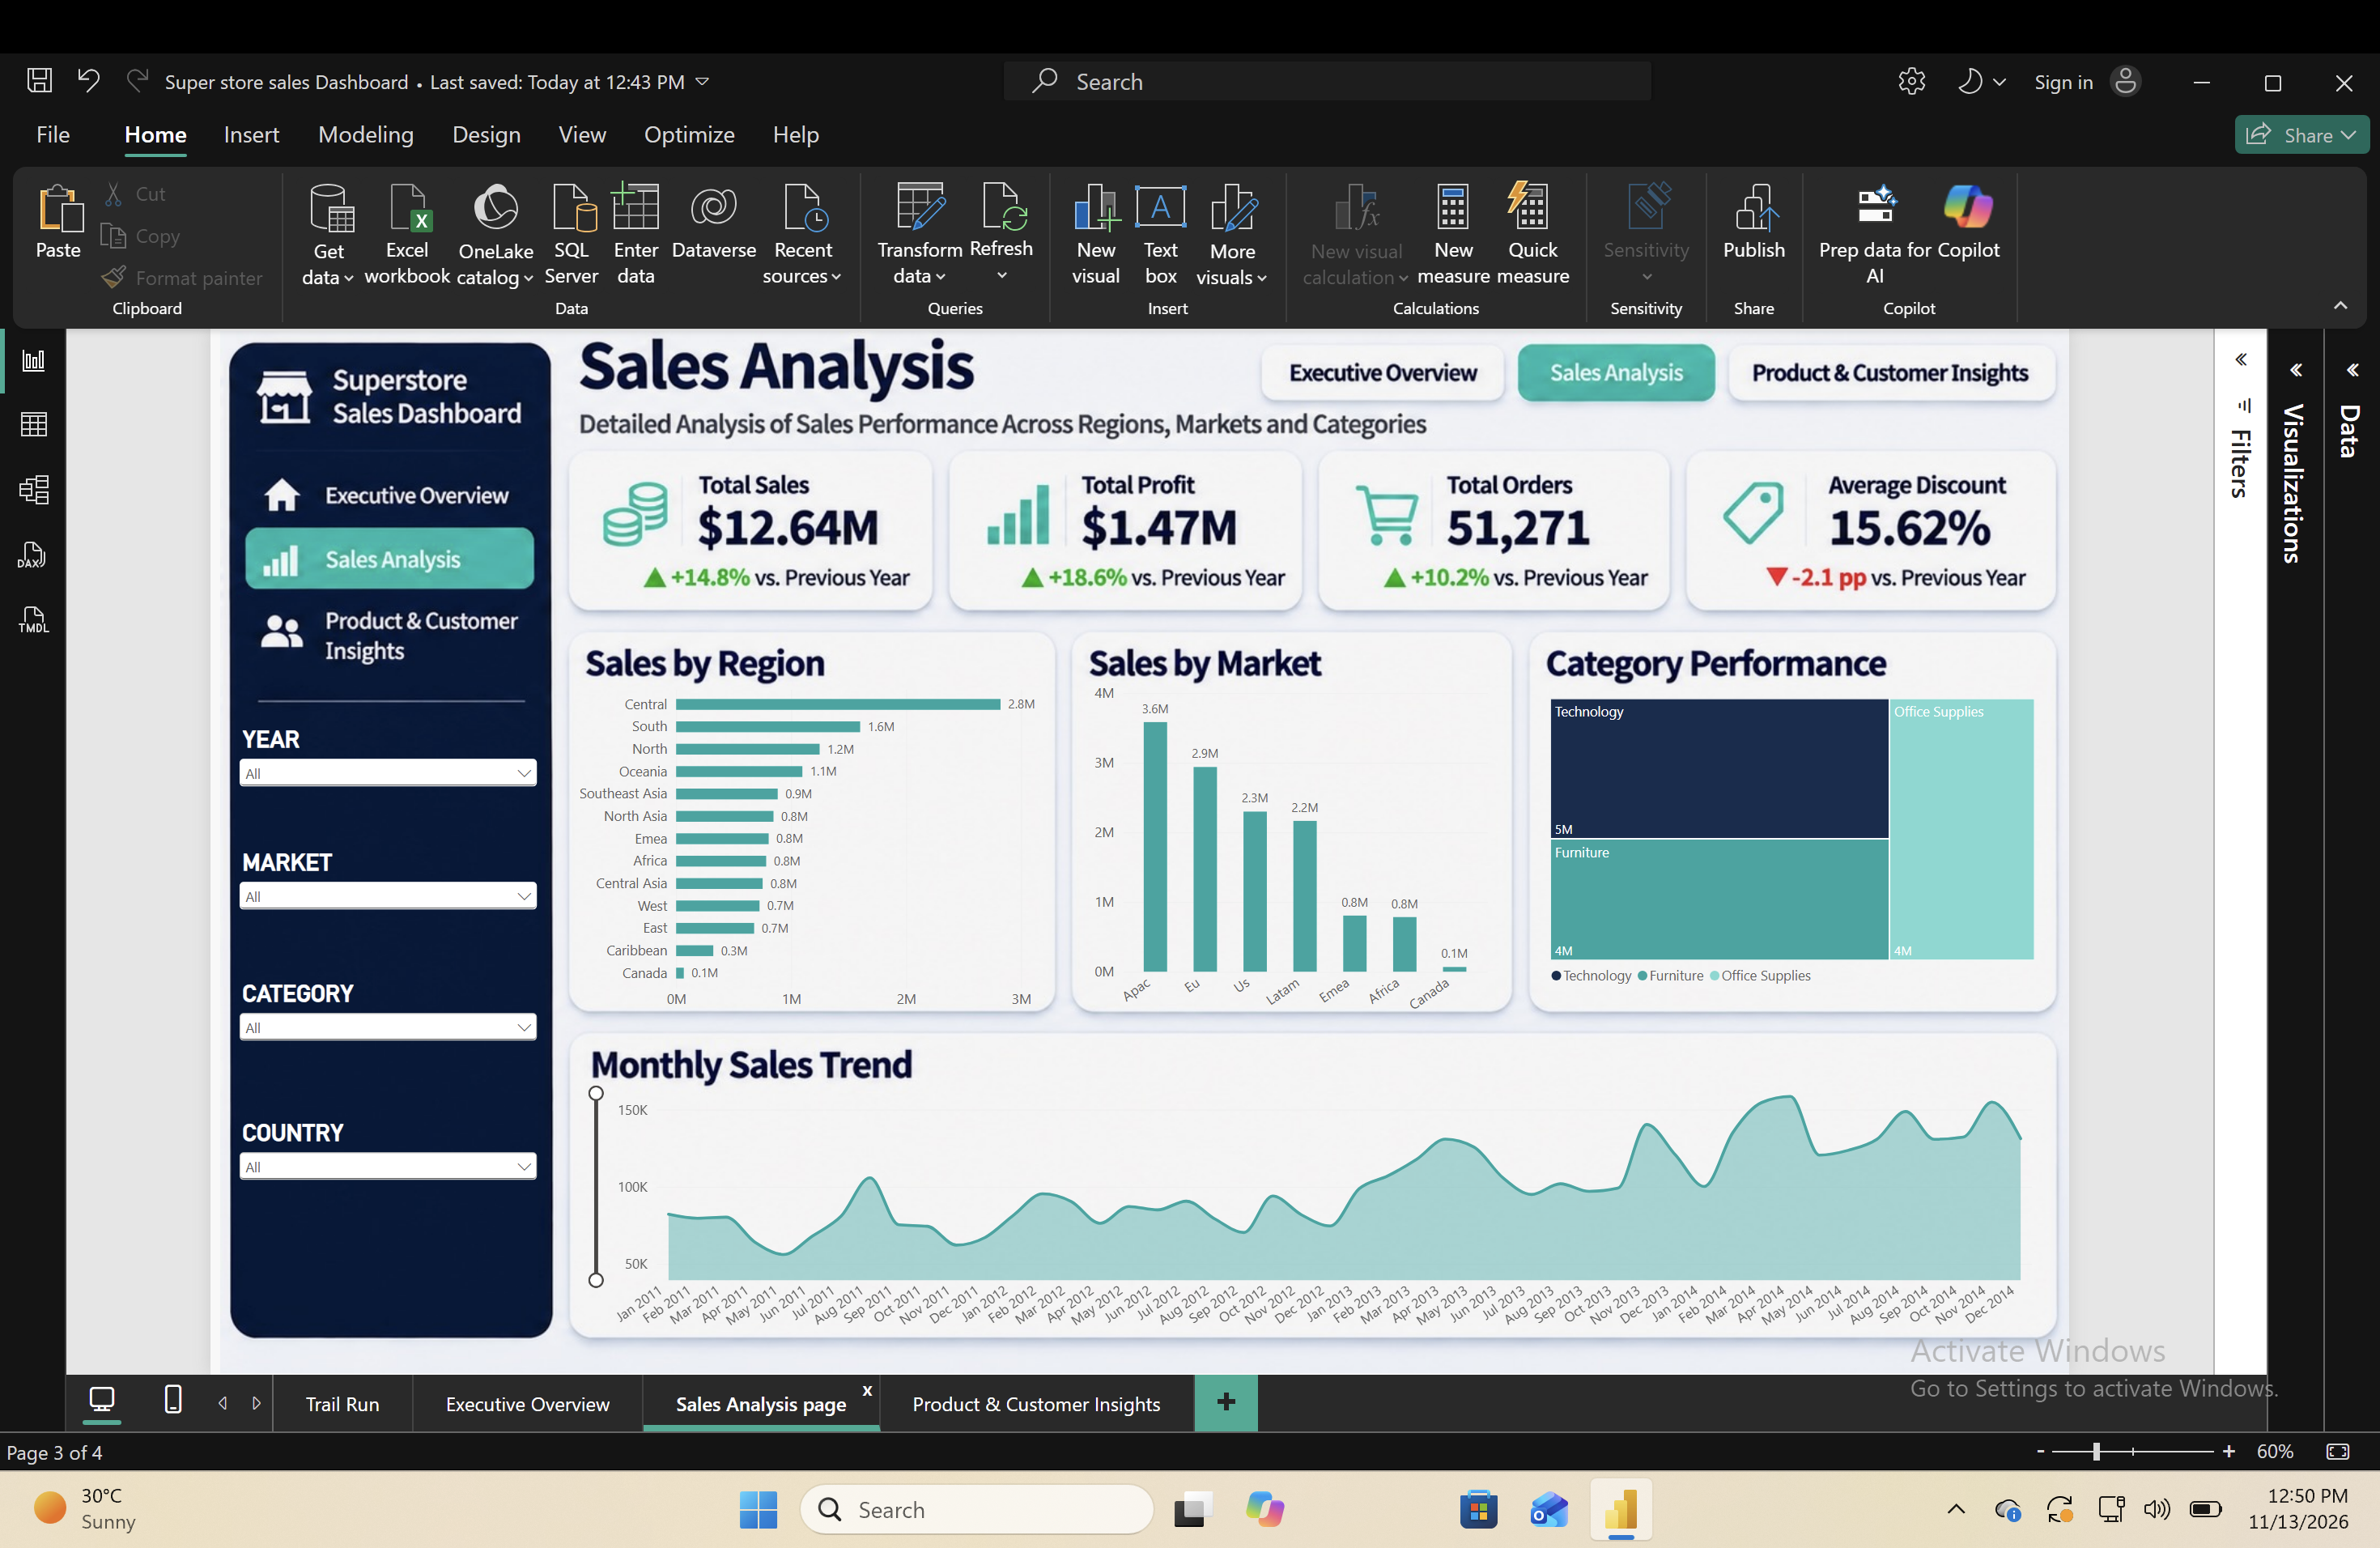

The dashboard page shown, as its layout file describes it:
{"tool":"powerbi","page":{"name":"    Sales Analysis page","canvas":[1920,1080],"ordinal":2},"visuals":[{"type":"image","box":[9.3,0,1910.7,1080.7],"z":0},{"type":"clusteredBarChart","fields":{"Category":["cleaned_dataset.region"],"Y":["cleaned_dataset.Total Sales"]},"box":[357,350.3,521,372.5],"z":1000},{"type":"clusteredColumnChart","fields":{"Category":["cleaned_dataset.market"],"Y":["cleaned_dataset.Total Sales"]},"box":[895.7,350.3,439,385.8],"z":2000},{"type":"lineChart","title":"Monthly Sales Trend","fields":{"Category":["cleaned_dataset.Month Year"],"Y":["cleaned_dataset.Total Sales"]},"box":[376.9,767.1,1520.9,297.1],"z":3000},{"type":"treemap","fields":{"Group":["cleaned_dataset.category"],"Values":["cleaned_dataset.Total Sales"]},"box":[1367.9,368,532.1,330.3],"z":3001},{"type":"slicer","fields":{"Values":["cleaned_dataset.year"]},"box":[24.4,410.2,317,79.8],"z":3002},{"type":"slicer","fields":{"Values":["cleaned_dataset.market"]},"box":[24.4,536.5,317,86.5],"z":3003},{"type":"slicer","fields":{"Values":["cleaned_dataset.category"]},"box":[24.4,671.8,317,75.4],"z":3004},{"type":"slicer","fields":{"Values":["cleaned_dataset.country"]},"box":[24.4,815.9,317,82],"z":3005}]}

Visuals, with their boxes on the page's 1920x1080 design canvas (x1, y1, x2, y2). These are canvas units, not pixel positions in the 2380x1548 screenshot, which may show the page scaled, cropped or inside an application window:
image: box=[9, 0, 1920, 1081]
clusteredBarChart - cleaned_dataset.region x cleaned_dataset.Total Sales: box=[357, 350, 878, 723]
clusteredColumnChart - cleaned_dataset.market x cleaned_dataset.Total Sales: box=[896, 350, 1335, 736]
"Monthly Sales Trend" lineChart: box=[377, 767, 1898, 1064]
treemap - cleaned_dataset.category x cleaned_dataset.Total Sales: box=[1368, 368, 1900, 698]
slicer - cleaned_dataset.year: box=[24, 410, 341, 490]
slicer - cleaned_dataset.market: box=[24, 536, 341, 623]
slicer - cleaned_dataset.category: box=[24, 672, 341, 747]
slicer - cleaned_dataset.country: box=[24, 816, 341, 898]
